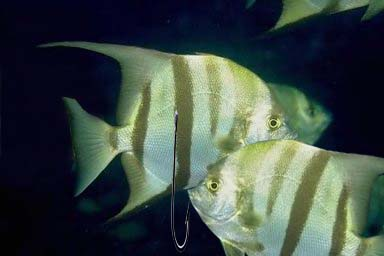copymove: (188, 138, 384, 256)
removal: (1, 70, 106, 182)
spliced: (170, 104, 191, 256)
